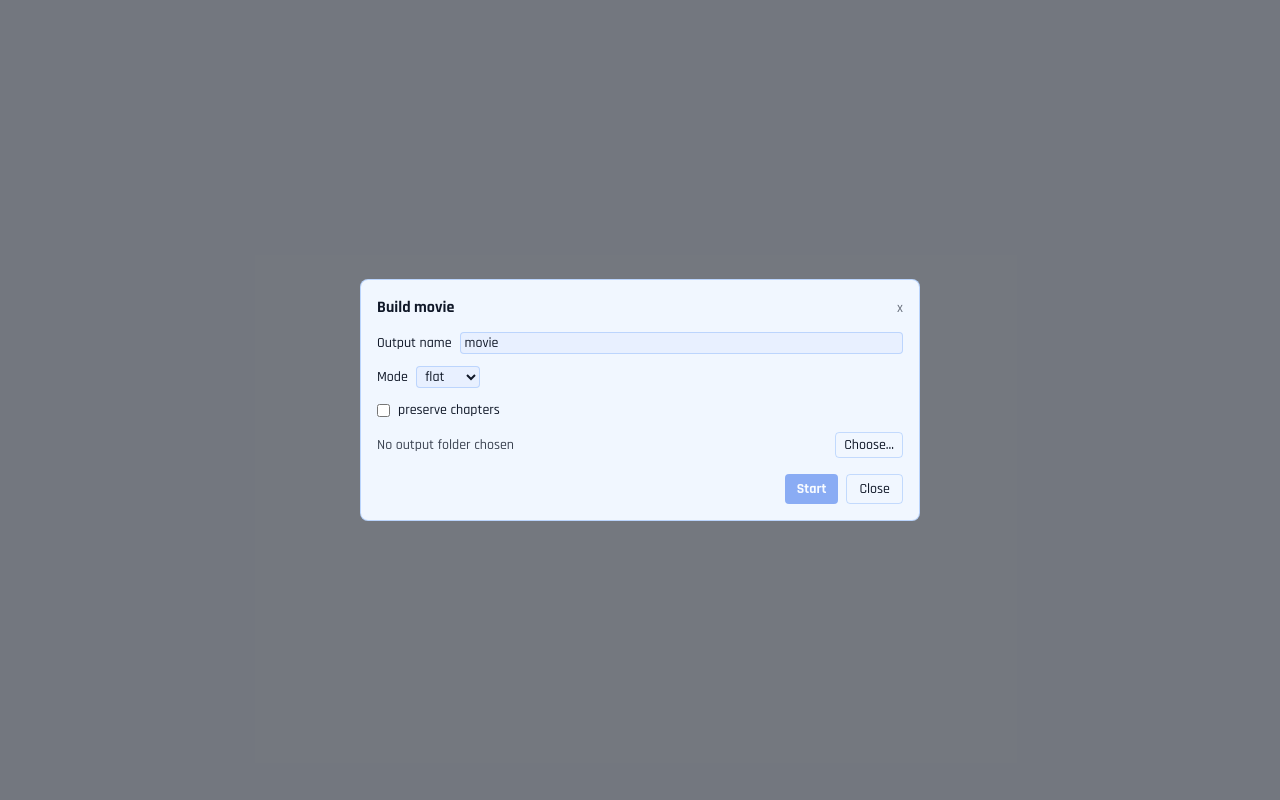
Test: BuildModal › shows the collision warning and overwrite checkbox after inspecting a folder with existing files
Click the button "Choose...". click: (869, 445)
box: [835, 432, 903, 458]
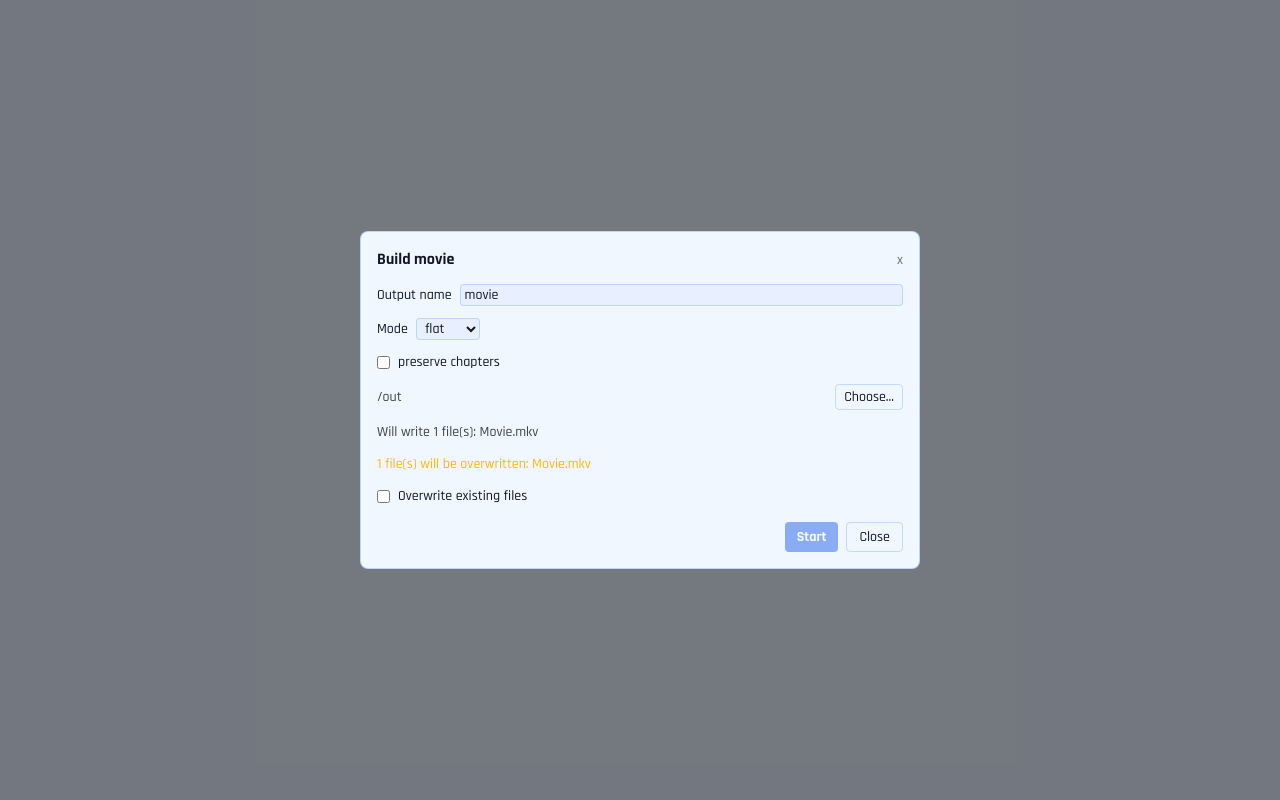
Expected: the text "1 file(s) will be overwritten: Movie.mkv" is shown, [377, 455, 591, 473]
Expected: the checkbox labelled "Overwrite existing files" is shown, [377, 490, 390, 502]
